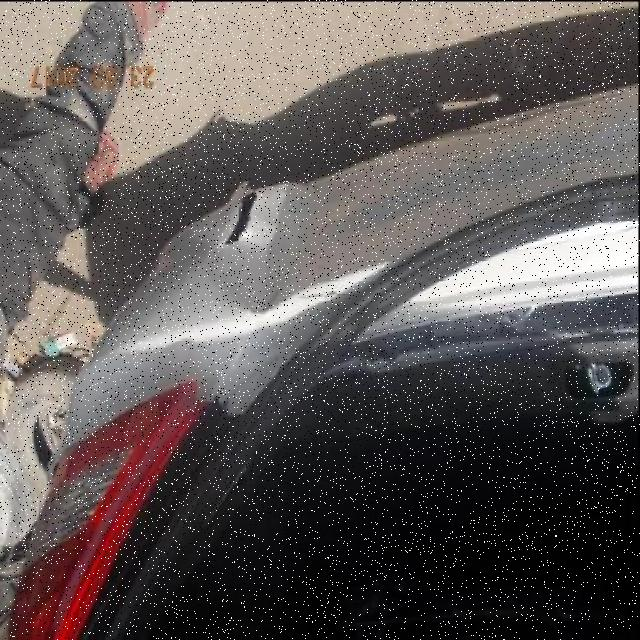damage: (208, 178, 327, 315), (222, 187, 260, 246)
